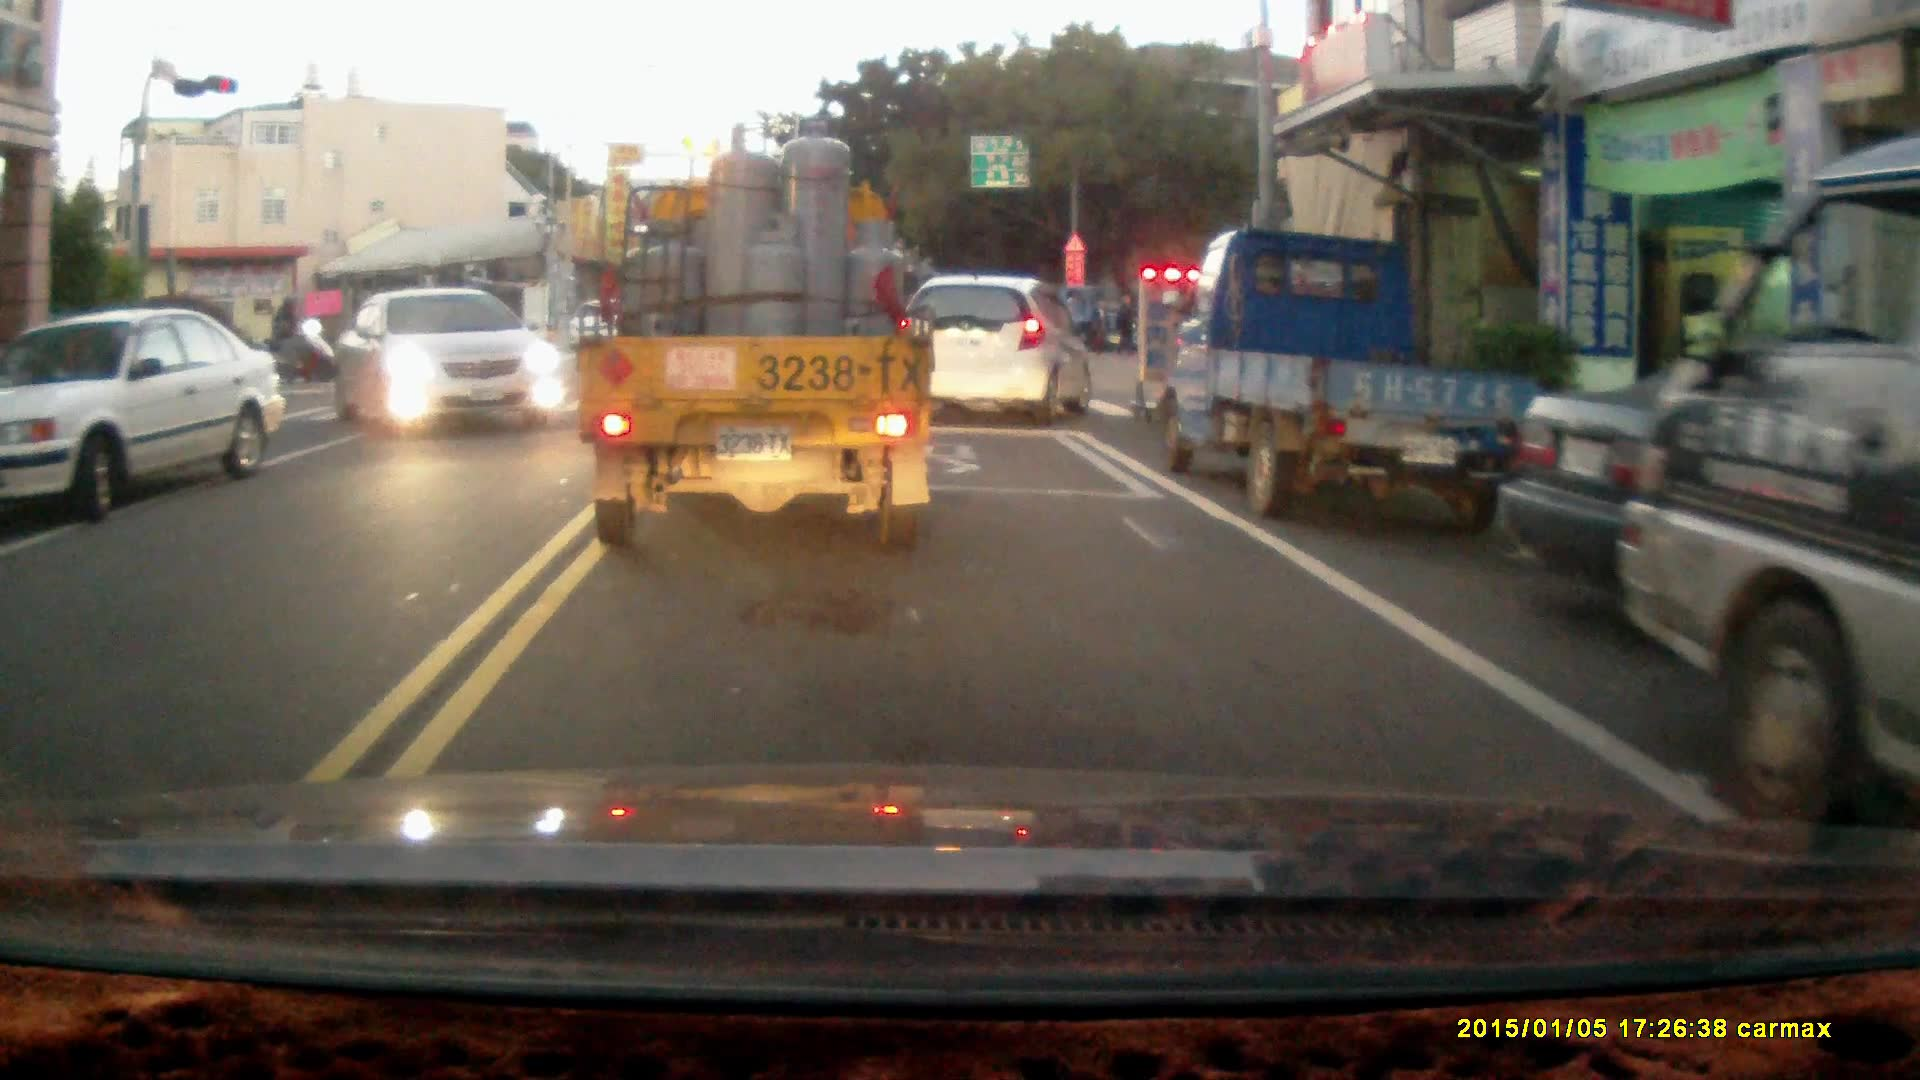rider: (251, 298, 335, 387)
vehicle: (1614, 141, 1920, 799), (575, 116, 938, 554), (1169, 229, 1540, 535), (6, 313, 282, 516), (330, 289, 568, 432), (899, 276, 1103, 423)
